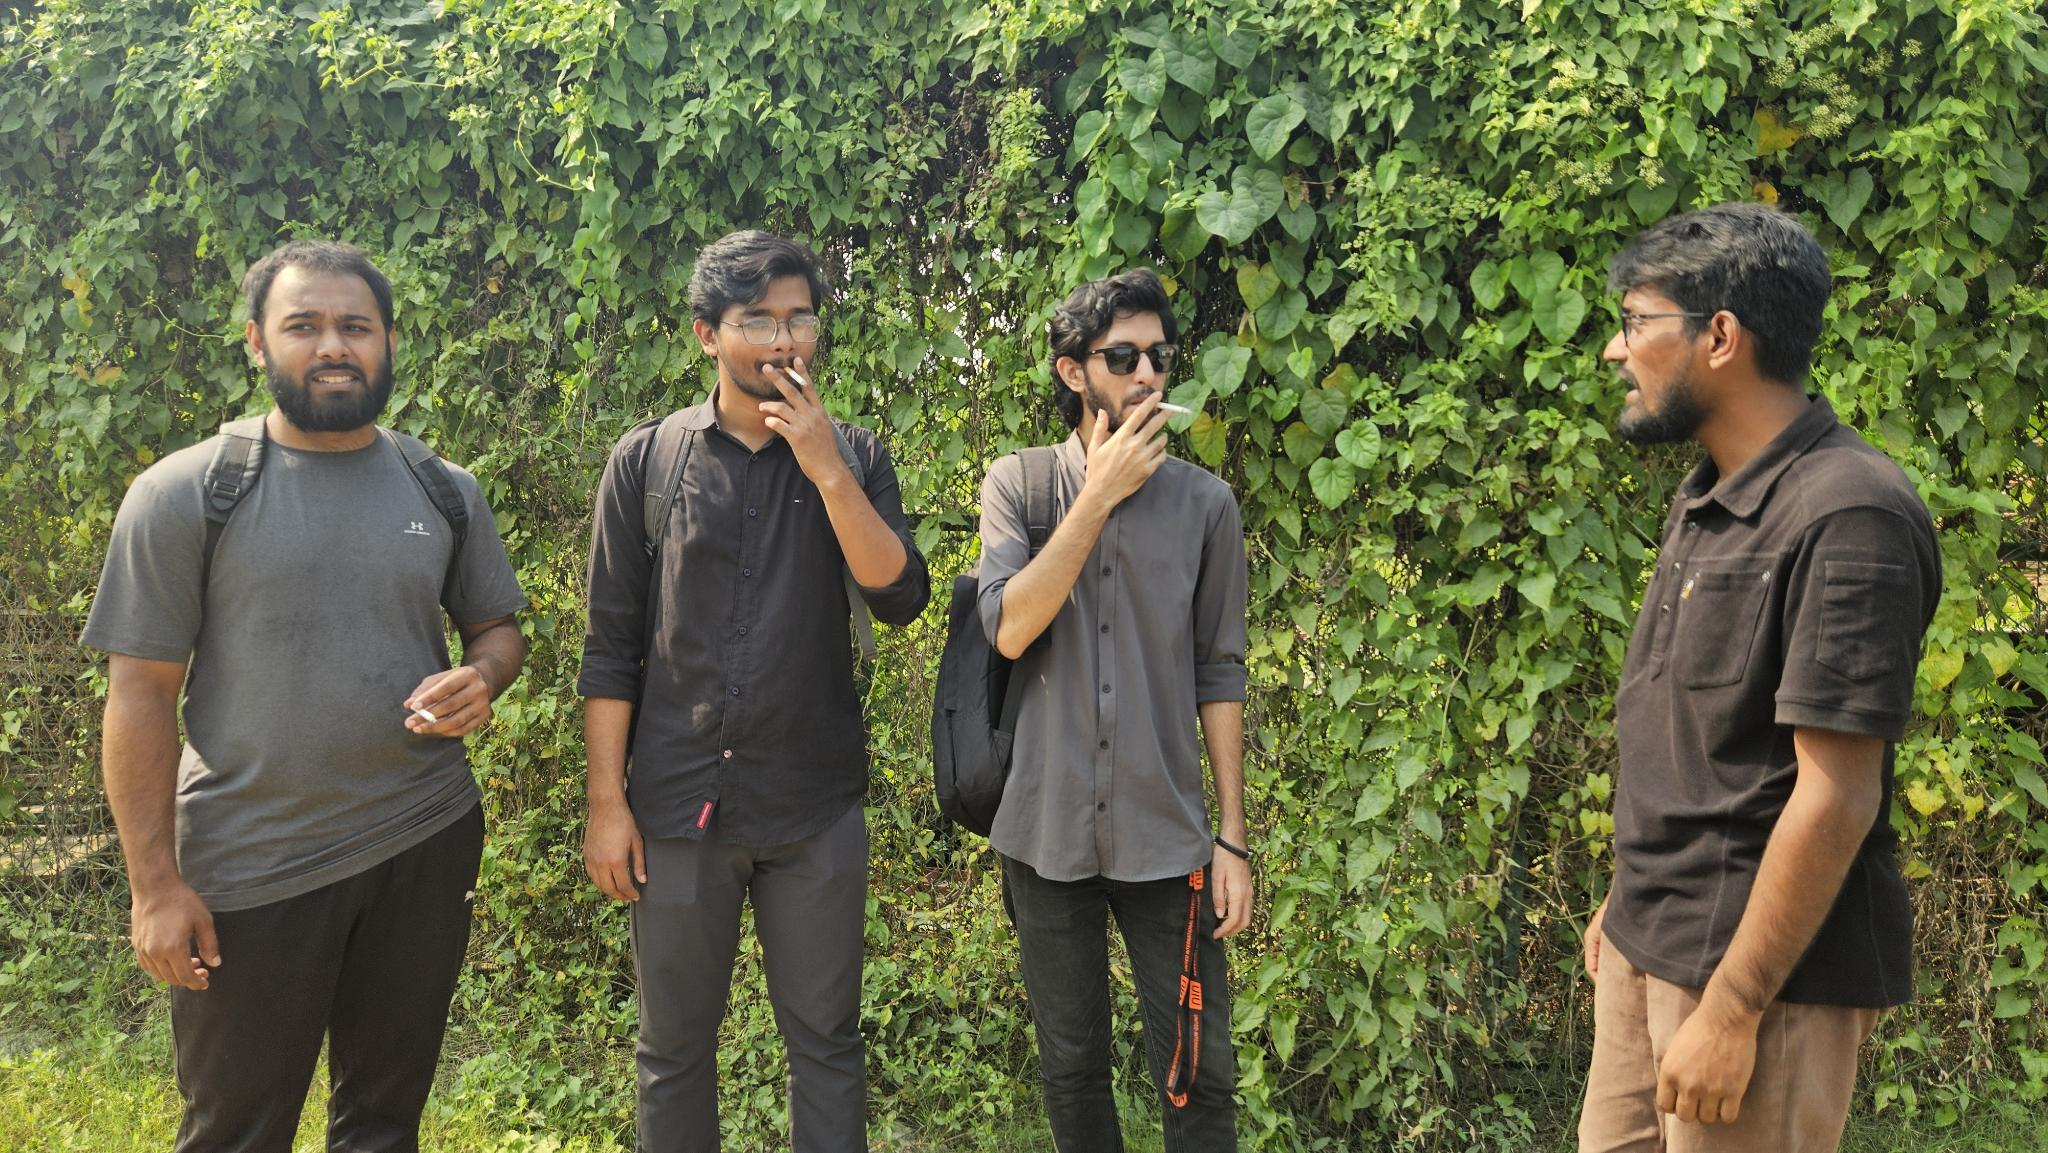cigarette: (1153, 399, 1194, 416), (782, 366, 810, 389), (408, 703, 437, 724)
nonSmoker: (1573, 197, 1951, 1153)
smoker: (80, 239, 527, 1153), (577, 229, 930, 1153), (930, 267, 1255, 1153)
